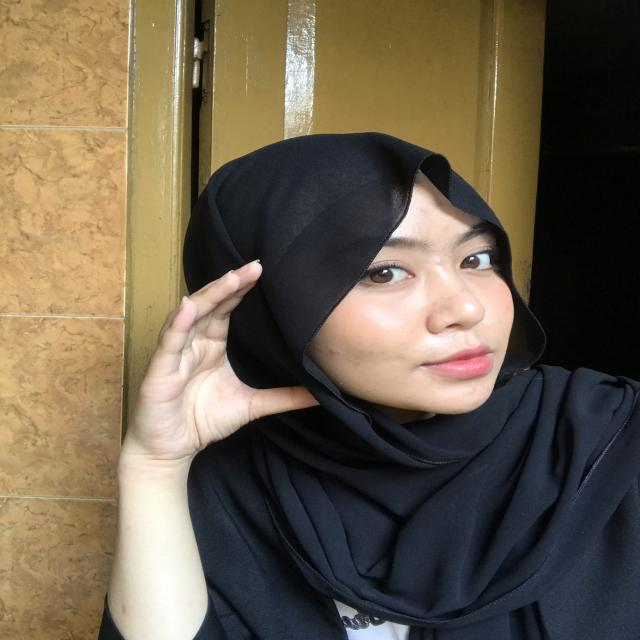mendengar: (127, 253, 331, 468)
